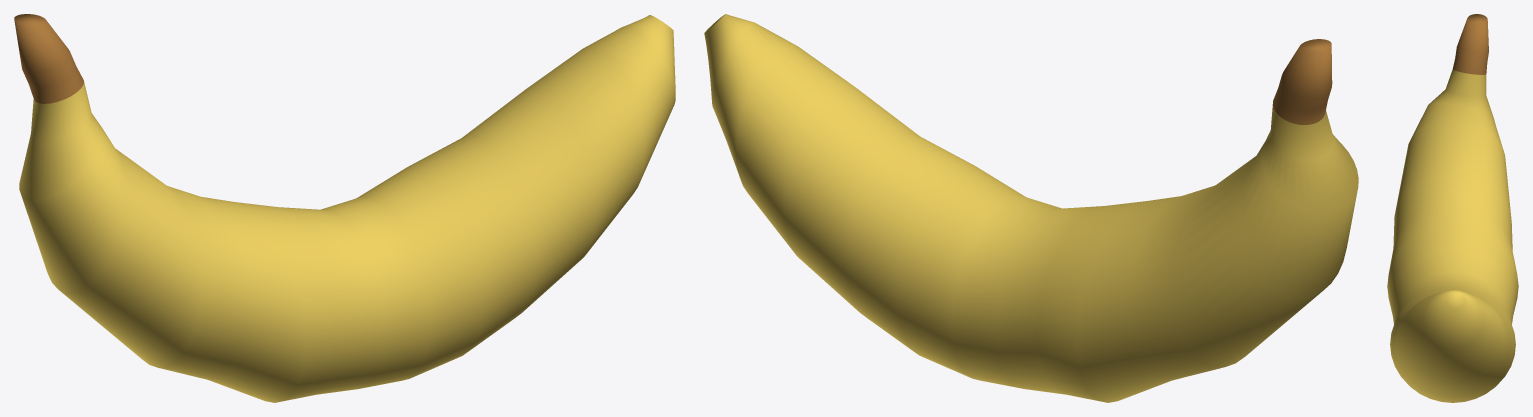
File: Collectable_01.fbx
3 views of the same model, side by side, from view 1: azimuth 30°, elevation 25°; view 2: azimuth 150°, elevation 25°; view 3: azimuth 270°, elevation 25° (orthographic). The views are drawn at different scales.
Parts seen in each view (by area): view 1: Cylinder; view 2: Cylinder; view 3: Cylinder.
Part boxes in pixels (x1,y1,x2,y2): Cylinder: (14,14,675,402); Cylinder: (704,14,1358,402); Cylinder: (1387,14,1518,402).
Size of the model in its own units: 430 by 271 by 119.
